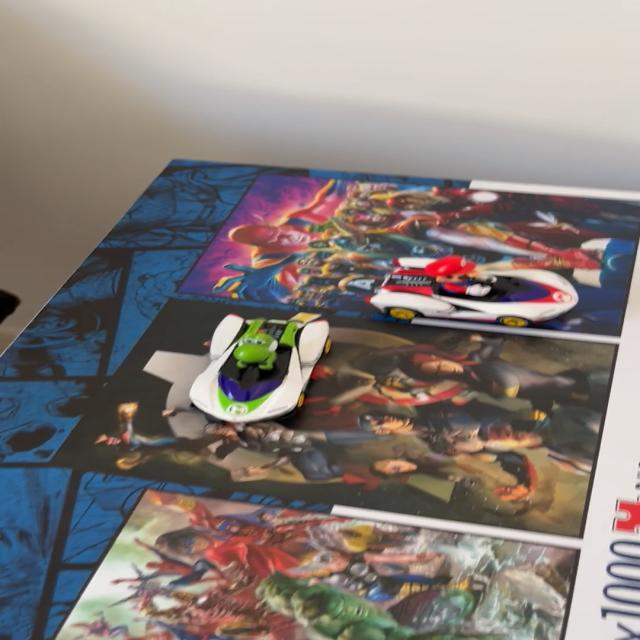mario: (365, 252, 600, 336)
yoshi: (176, 305, 342, 434)
